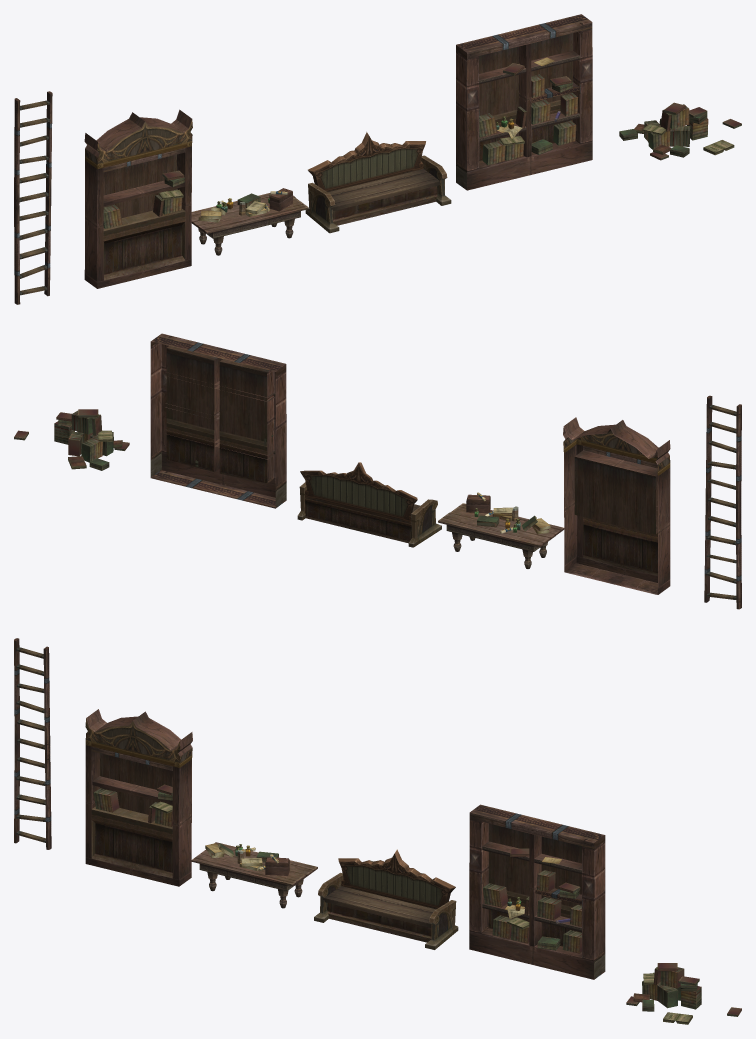
Rendered from d_book.FBX.
3 views of the same model, one above another, from view 1: azimuth 30°, elevation 25°; view 2: azimuth 150°, elevation 25°; view 3: azimuth 330°, elevation 25° (orthographic).
Visible parts, largest first — view 1: w_1009_railing41, w_1009_railing42, w_1009_railing47, w_1009_railing45, w_1009_railing44, w_1009_railing091, w_1009_railing092; view 2: w_1009_railing41, w_1009_railing42, w_1009_railing47, w_1009_railing45, w_1009_railing44, w_1009_railing091, w_1009_railing092; view 3: w_1009_railing41, w_1009_railing42, w_1009_railing47, w_1009_railing45, w_1009_railing44, w_1009_railing091, w_1009_railing092.
Part boxes in pixels (box(x1,y1,x2,y2)): w_1009_railing41: box(456, 14, 592, 190); w_1009_railing42: box(84, 109, 192, 288); w_1009_railing47: box(305, 132, 451, 233); w_1009_railing45: box(14, 91, 52, 304); w_1009_railing44: box(619, 102, 741, 160); w_1009_railing091: box(191, 191, 308, 255); w_1009_railing092: box(198, 188, 292, 222); w_1009_railing41: box(150, 333, 286, 508); w_1009_railing42: box(563, 417, 670, 594); w_1009_railing47: box(297, 462, 441, 547); w_1009_railing45: box(704, 395, 741, 609); w_1009_railing44: box(14, 409, 129, 470); w_1009_railing091: box(438, 503, 564, 568); w_1009_railing092: box(466, 492, 550, 534); w_1009_railing41: box(469, 804, 605, 979); w_1009_railing42: box(85, 709, 192, 886); w_1009_railing47: box(314, 849, 458, 949); w_1009_railing45: box(14, 638, 51, 849); w_1009_railing44: box(626, 963, 741, 1024); w_1009_railing091: box(191, 842, 317, 908); w_1009_railing092: box(205, 843, 289, 875).
Size of the model in its own units: 2917 by 782 by 340.
Materials: 1 (1 with a texture image).
